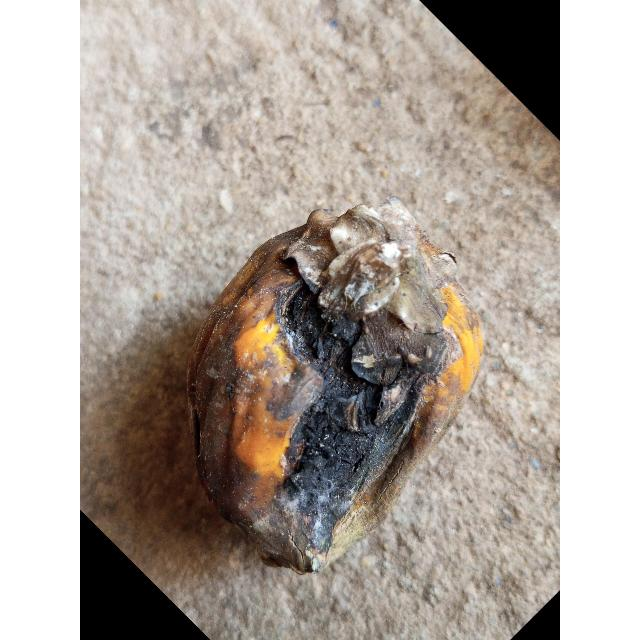damaged: (188, 198, 482, 573)
